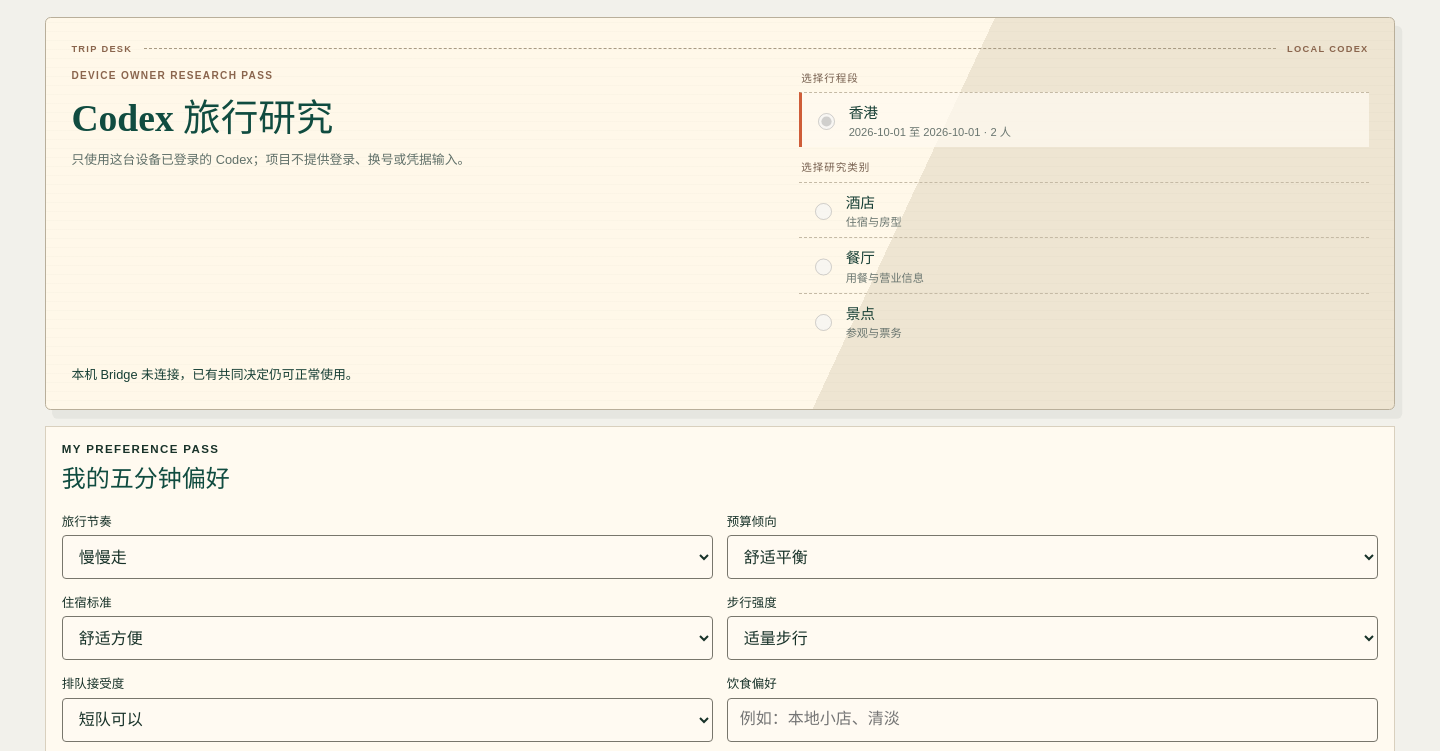
Test case: preserves dirty fields and focus, adopts untouched remote fields, and blocks saving until resolution
Type "本地小店" into the field labelled "饮食偏好" at [1052, 720], box [727,698,1378,742]
(page scrolled)
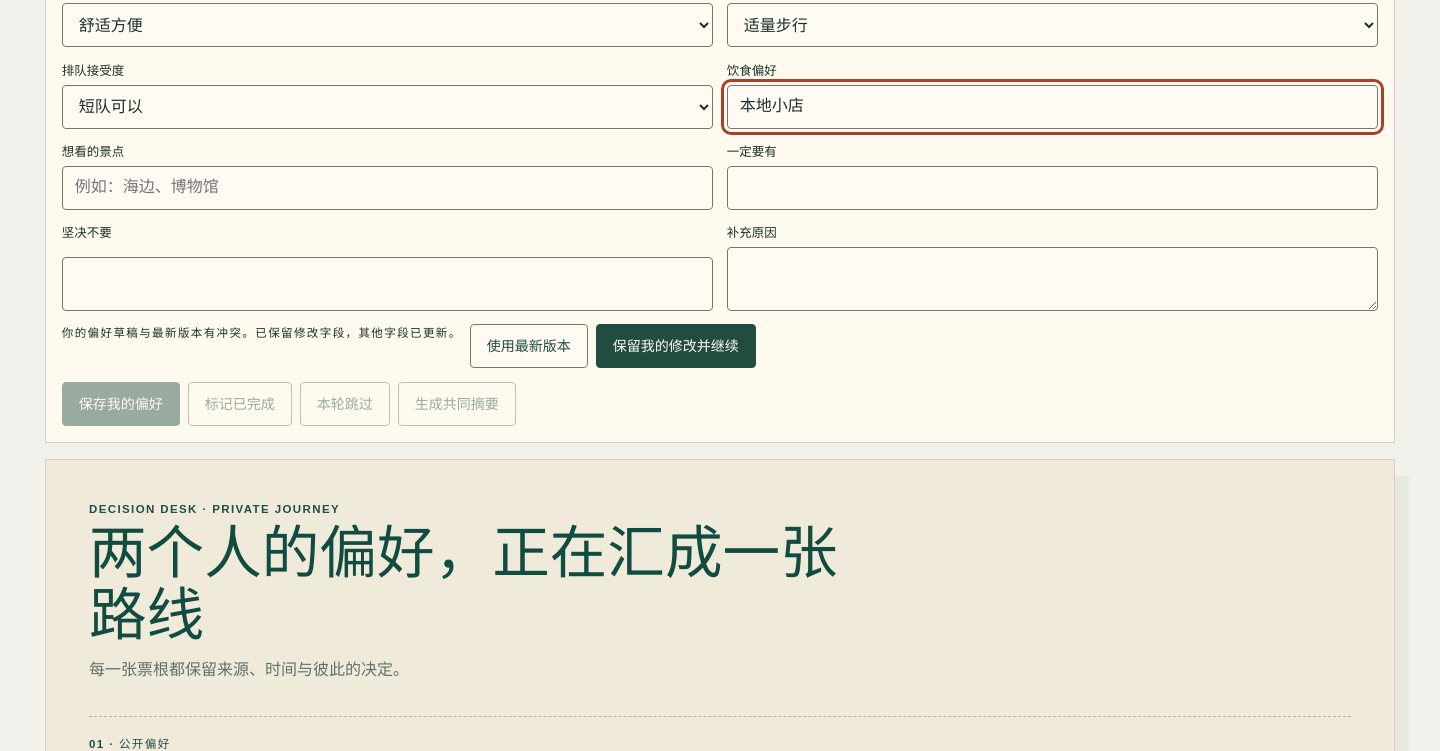
Expected: the message shows "偏好草稿与最新版本有冲突", [62,328,462,340]
Expected: the button "保存我的偏好" is disabled, [62,382,180,426]
Expected: the button "标记已完成" is disabled, [188,382,292,426]
Click the button "保留我的修改并继续" at [676, 346], box [596,324,756,368]
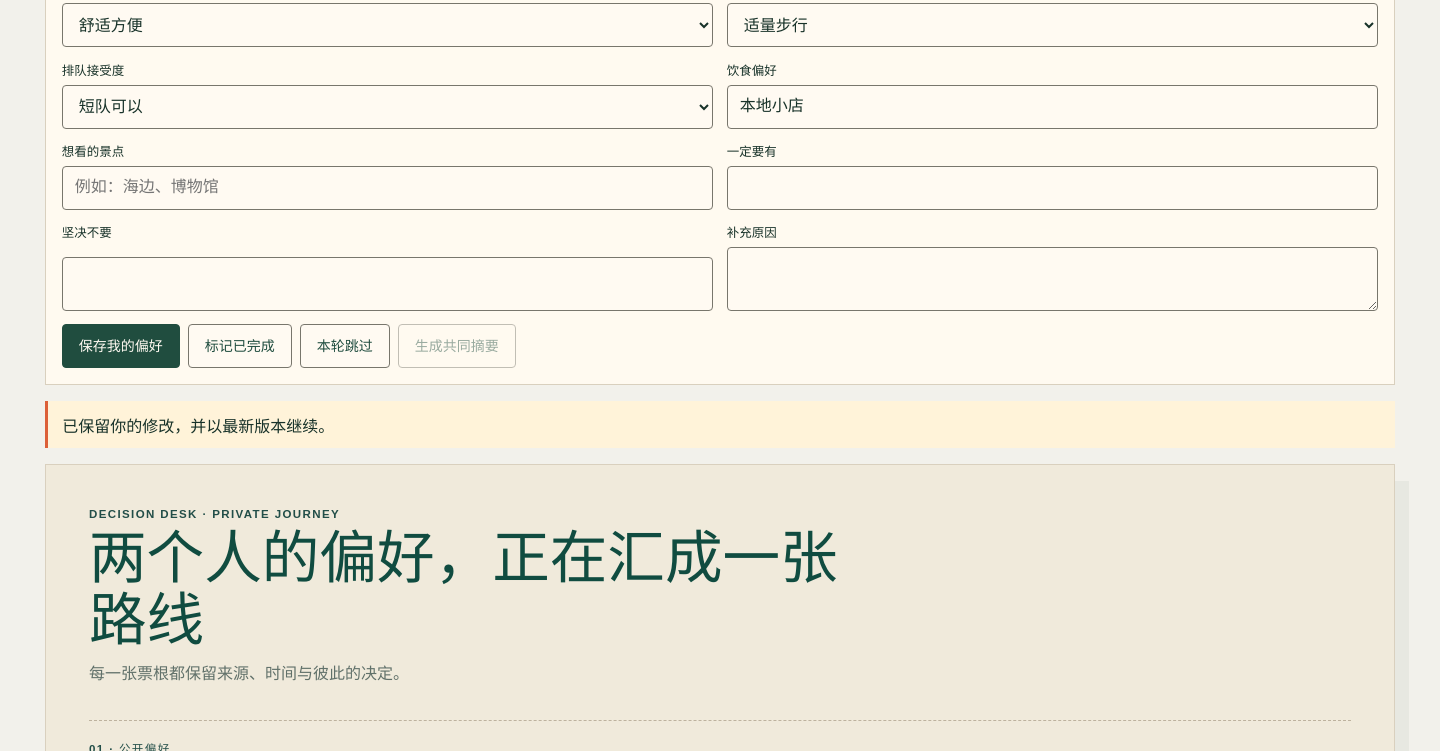
Expected: the button "保存我的偏好" is enabled, [62,324,180,368]
Expected: the button "标记已完成" is enabled, [188,324,292,368]
Expected: the button "本轮跳过" is enabled, [300,324,390,368]
